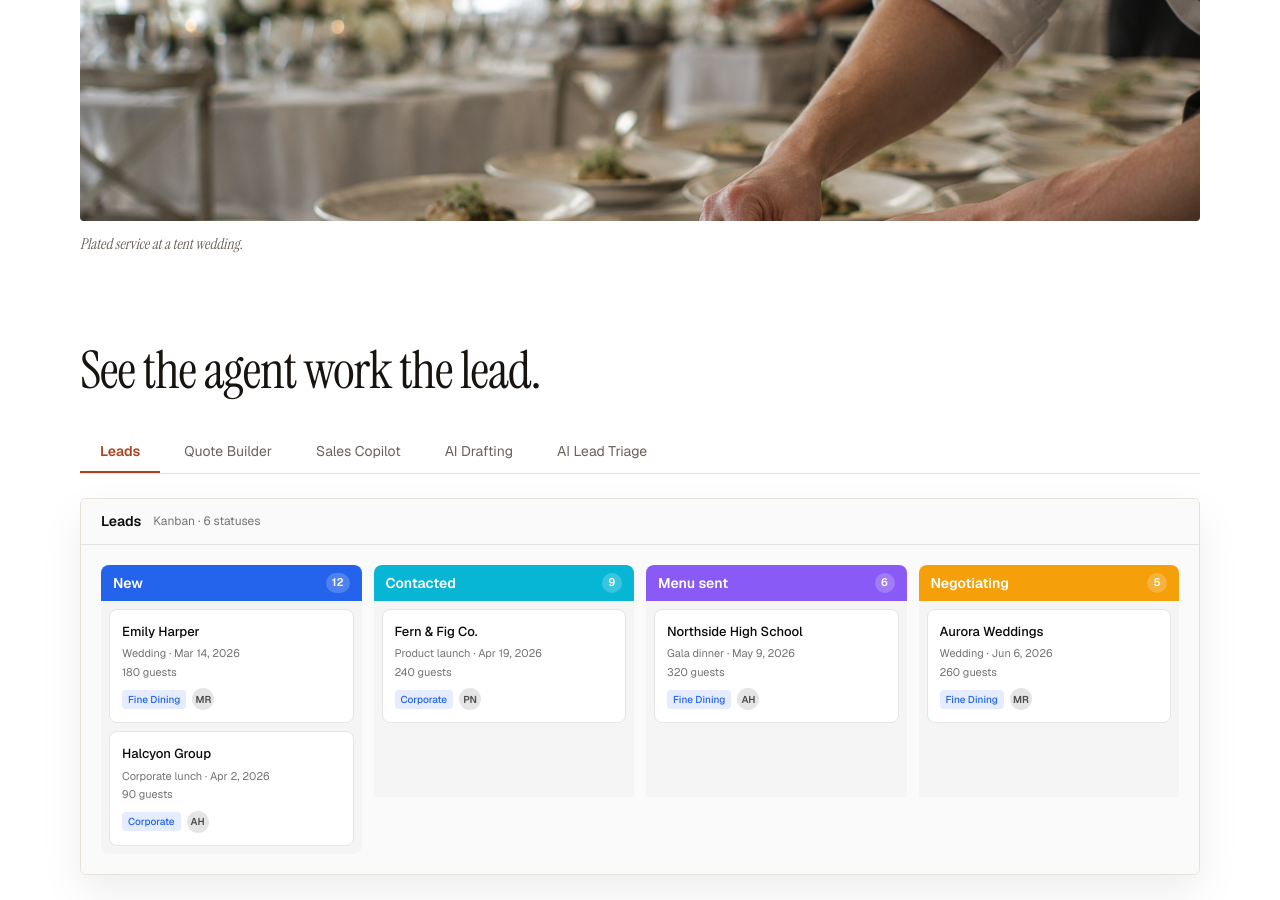
Test: LandingPage (REL-482) › shows the copilot proposing rather than applying, with honest margin
The image size is (1280, 900).
(page scrolled)
Click the button "Sales Copilot": x=358, y=451 [296,429,421,473]
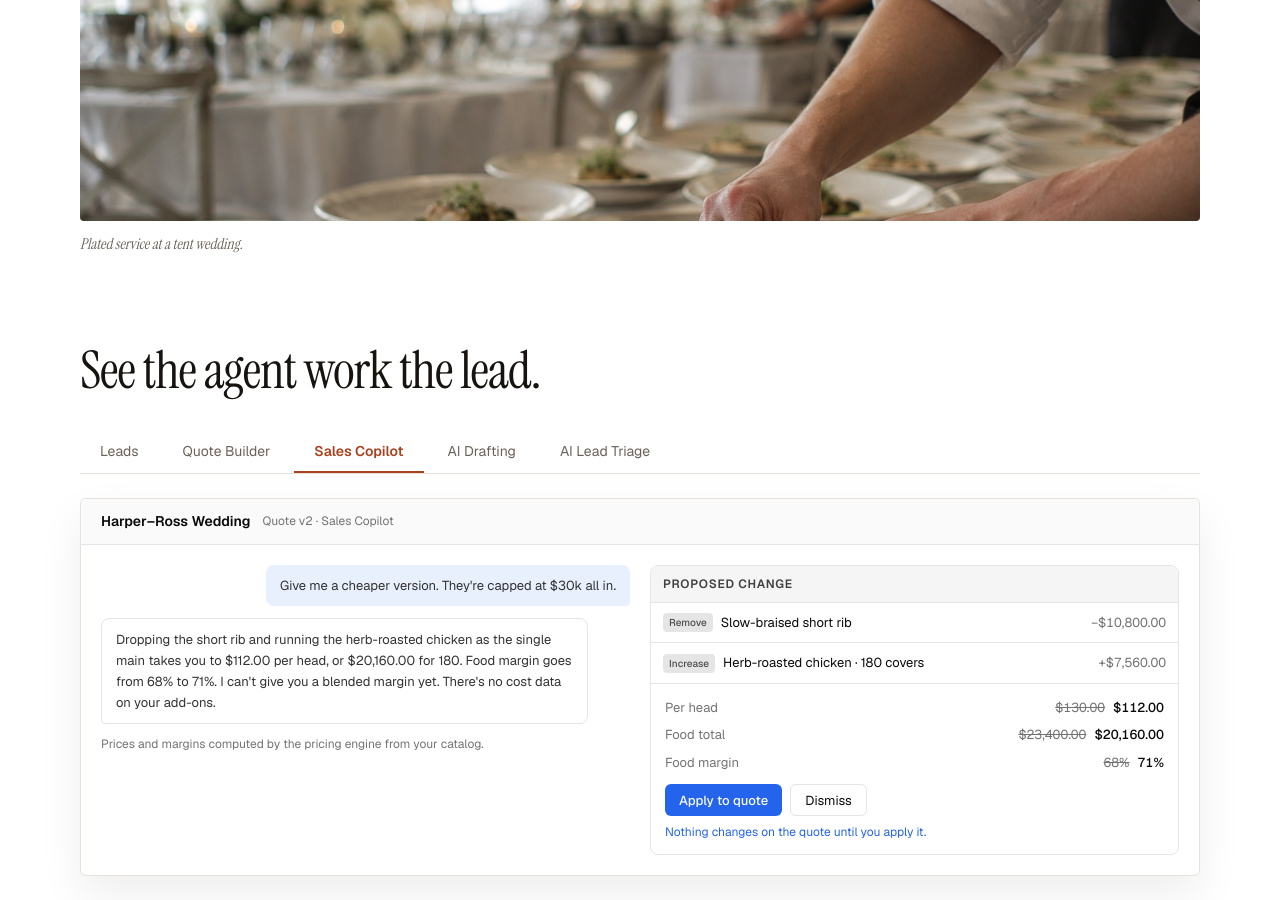
Expected: the text "Apply to quote" is shown, [665,784,782,816]
Expected: the text "Nothing changes on the quote until you apply it." is shown, [665,824,926,840]
Expected: the text "There's no cost data on your add-ons." is shown, [116,631,572,711]
